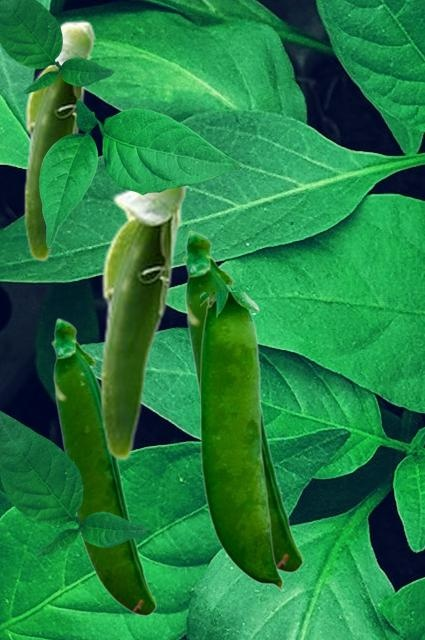pea: (182, 229, 302, 572), (51, 317, 155, 615), (200, 292, 282, 590), (99, 186, 188, 460), (23, 20, 95, 261)
